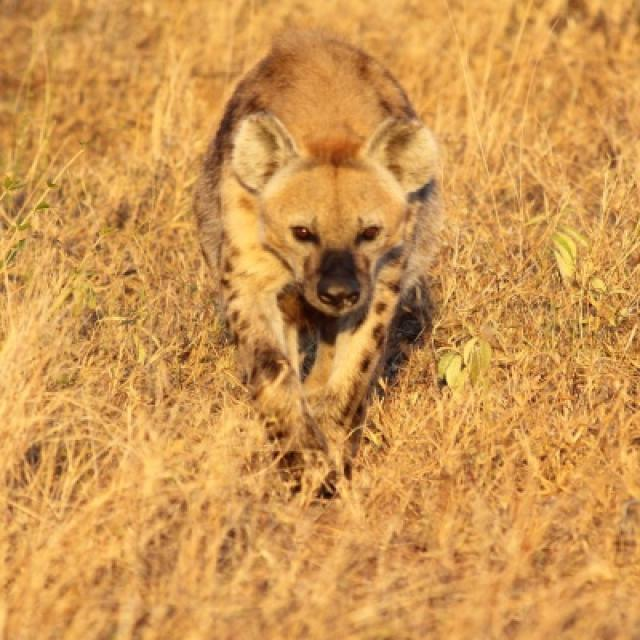hyena: (192, 29, 445, 499)
